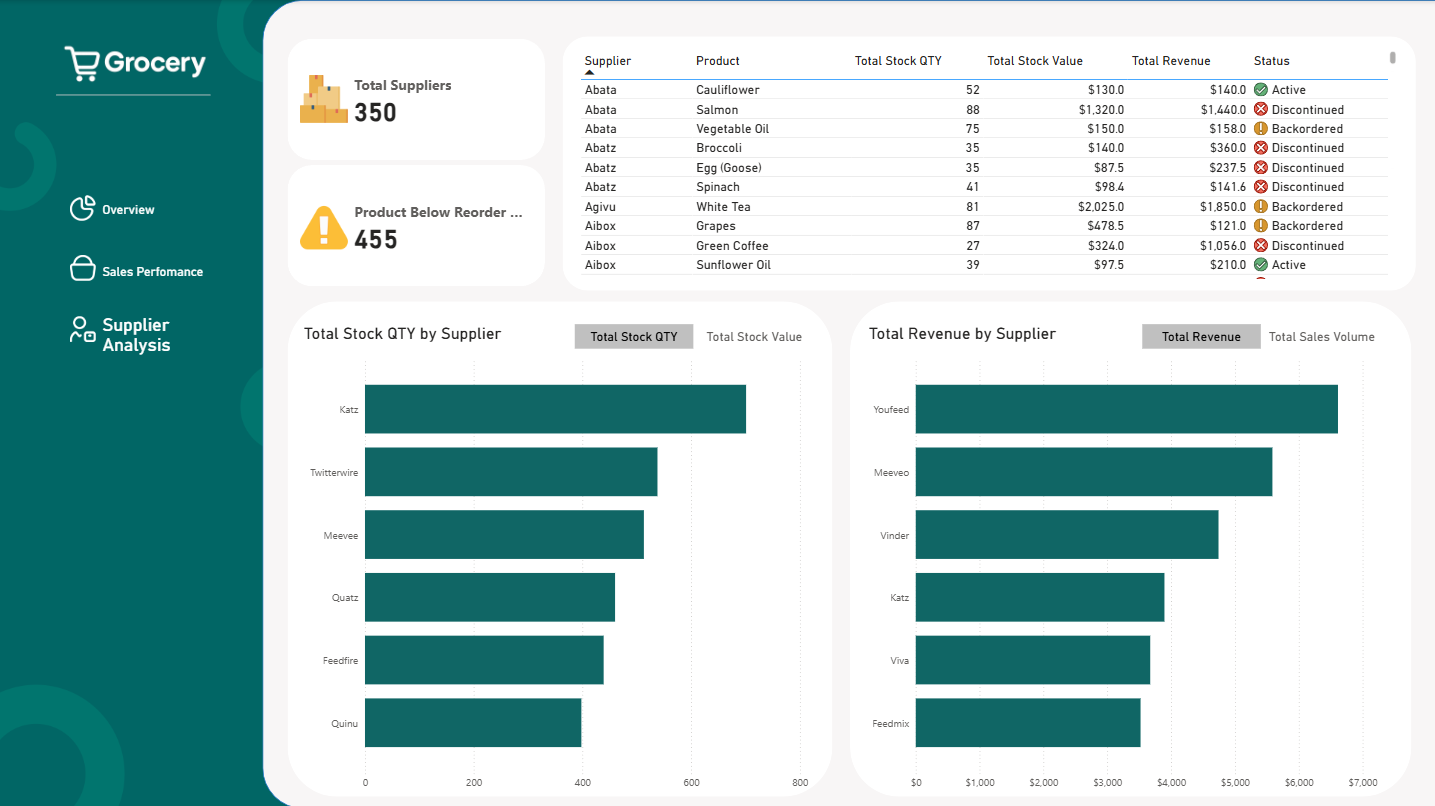

The dashboard page shown, as its layout file describes it:
{"tool":"powerbi","page":{"name":"Supplier Analysis","canvas":[1920,1080],"ordinal":2},"visuals":[{"type":"shape","box":[350,0,1570,1080],"z":0},{"type":"image","box":[44,4,272.4,163.8],"z":0,"group":"g4"},{"type":"cardVisual","fields":{"Data":["_measures.Total Suppliers"]},"box":[444,68,210,130],"z":0,"group":"g2"},{"type":"cardVisual","fields":{"Data":["_measures.Product Below Reorder Level"]},"box":[444,238,288,130],"z":0,"group":"g3"},{"type":"image","box":[94,260,34,34],"z":0,"group":"g5"},{"type":"shape","box":[384,402,728,662],"z":0,"group":"g1"},{"type":"group","id":"g1","title":"Group 3","box":[384,48,1508,1016],"z":1000},{"type":"shape","box":[76,88,206,80],"z":1000,"group":"g4"},{"type":"image","box":[400,100,64,64],"z":1000,"group":"g2"},{"type":"image","box":[400,272,64,64],"z":1000,"group":"g3"},{"type":"shape","box":[1136,402,750,662],"z":1000,"group":"g1"},{"type":"image","box":[94,422,34,34],"z":1000,"group":"g5"},{"type":"shape","box":[752,48,1140,340],"z":2000,"group":"g1"},{"type":"image","box":[94,341,34,34],"z":2000,"group":"g5"},{"type":"shape","box":[384,52,344,162],"z":3000,"group":"g1"},{"type":"group","id":"g2","title":"Group 1","box":[400,68,254,130],"z":3000},{"type":"shape","box":[384,220,344,162],"z":4000,"group":"g1"},{"type":"group","id":"g3","title":"Group 2","box":[400,238,332,130],"z":4000},{"type":"pageNavigator","box":[138,242,180,242],"z":4000,"group":"g5"},{"type":"clusteredBarChart","title":"Total Stock QTY by Supplier","fields":{"Category":["Grocery_Inventory new v1.Supplier_Name"],"Y":["_measures.Total Stock QTY"]},"box":[400,432,684,632],"z":5000},{"type":"tableEx","fields":{"Values":["Grocery_Inventory new v1.Supplier_Name","Grocery_Inventory new v1.Product_Name","_measures.Total Stock QTY","_measures.Total Stock Value","_measures.Total Revenue","Grocery_Inventory new v1.Status"]},"box":[770,64,1100,314],"z":6000},{"type":"clusteredBarChart","title":"Total Revenue by Supplier","fields":{"Category":["Grocery_Inventory new v1.Supplier_Name"],"Y":["_measures.Total Revenue"]},"box":[1156,432,690,632],"z":7000},{"type":"slicer","fields":{"Values":["volume vs revenue.volume vs revenue"]},"box":[1500,426,370,40],"z":8000},{"type":"slicer","fields":{"Values":["stock qty vs stock value.stock qty vs stock value"]},"box":[742,426,370,40],"z":9000},{"type":"group","id":"g4","title":"Group 6","box":[44,4,272.4,164],"z":9001},{"type":"group","id":"g5","title":"Group 5","box":[94,242,224,242],"z":9002}]}

Visuals, with their boxes on the page's 1920x1080 design canvas (x1, y1, x2, y2). These are canvas units, not pixel positions in the 1435x806 screenshot, which may show the page scaled, cropped or inside an application window:
shape: pyautogui.locateOnScreen(350, 0, 1920, 1080)
image: pyautogui.locateOnScreen(44, 4, 316, 168)
cardVisual - _measures.Total Suppliers: pyautogui.locateOnScreen(444, 68, 654, 198)
cardVisual - _measures.Product Below Reorder Level: pyautogui.locateOnScreen(444, 238, 732, 368)
image: pyautogui.locateOnScreen(94, 260, 128, 294)
shape: pyautogui.locateOnScreen(384, 402, 1112, 1064)
"Group 3" group: pyautogui.locateOnScreen(384, 48, 1892, 1064)
shape: pyautogui.locateOnScreen(76, 88, 282, 168)
image: pyautogui.locateOnScreen(400, 100, 464, 164)
image: pyautogui.locateOnScreen(400, 272, 464, 336)
shape: pyautogui.locateOnScreen(1136, 402, 1886, 1064)
image: pyautogui.locateOnScreen(94, 422, 128, 456)
shape: pyautogui.locateOnScreen(752, 48, 1892, 388)
image: pyautogui.locateOnScreen(94, 341, 128, 375)
shape: pyautogui.locateOnScreen(384, 52, 728, 214)
"Group 1" group: pyautogui.locateOnScreen(400, 68, 654, 198)
shape: pyautogui.locateOnScreen(384, 220, 728, 382)
"Group 2" group: pyautogui.locateOnScreen(400, 238, 732, 368)
pageNavigator: pyautogui.locateOnScreen(138, 242, 318, 484)
"Total Stock QTY by Supplier" clusteredBarChart: pyautogui.locateOnScreen(400, 432, 1084, 1064)
tableEx - Grocery_Inventory new v1.Supplier_Name x Grocery_Inventory new v1.Product_Name: pyautogui.locateOnScreen(770, 64, 1870, 378)
"Total Revenue by Supplier" clusteredBarChart: pyautogui.locateOnScreen(1156, 432, 1846, 1064)
slicer - volume vs revenue.volume vs revenue: pyautogui.locateOnScreen(1500, 426, 1870, 466)
slicer - stock qty vs stock value.stock qty vs stock value: pyautogui.locateOnScreen(742, 426, 1112, 466)
"Group 6" group: pyautogui.locateOnScreen(44, 4, 316, 168)
"Group 5" group: pyautogui.locateOnScreen(94, 242, 318, 484)
